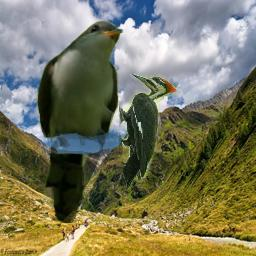Cuckoo: (36, 20, 124, 223)
Woodpecker: (119, 74, 178, 189)
